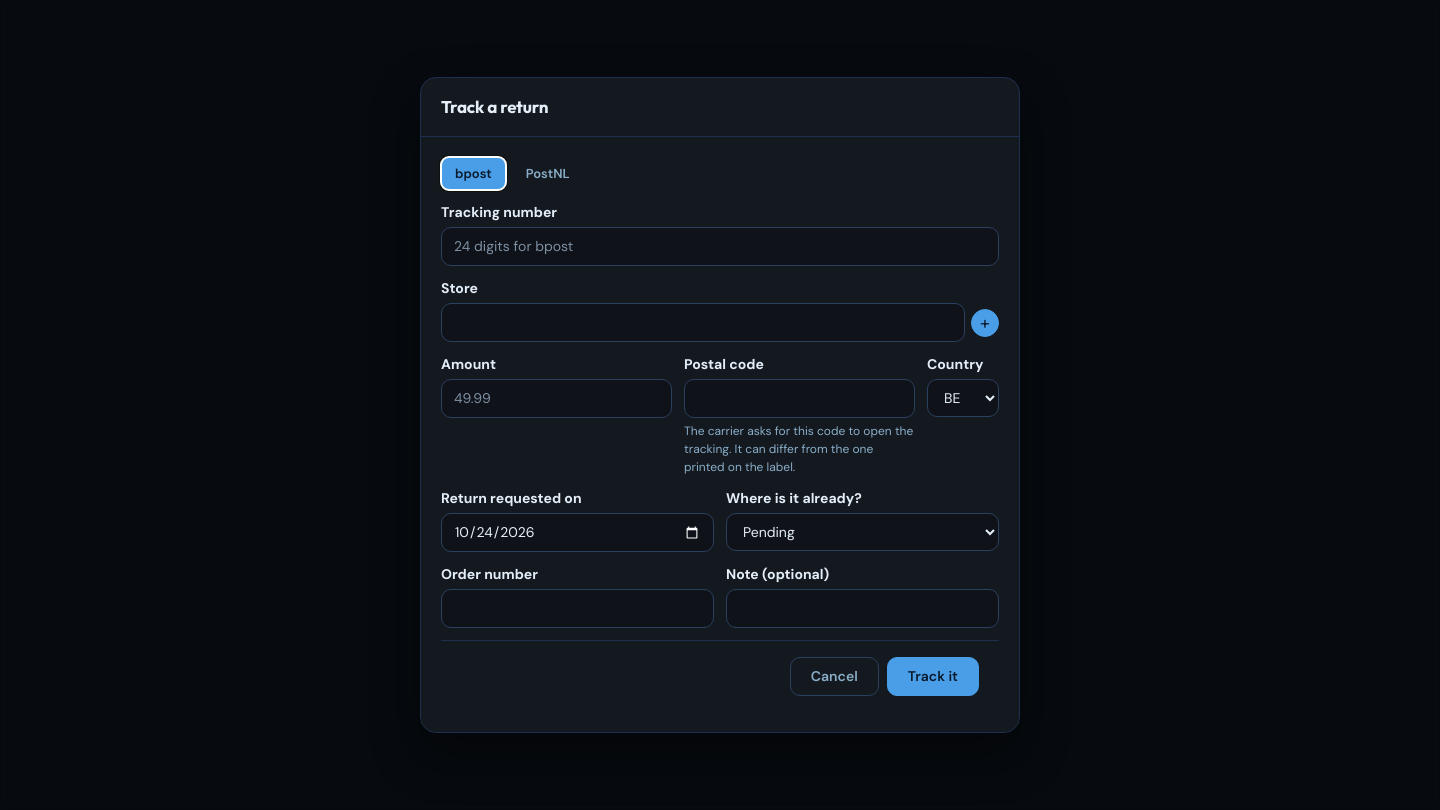
it: what it asks for › asks for the drop-off day only once the parcel has left
Select "Dropped off" in the dropdown labelled "Where is it already?" at [862, 532], box 726,513 -> 999,551
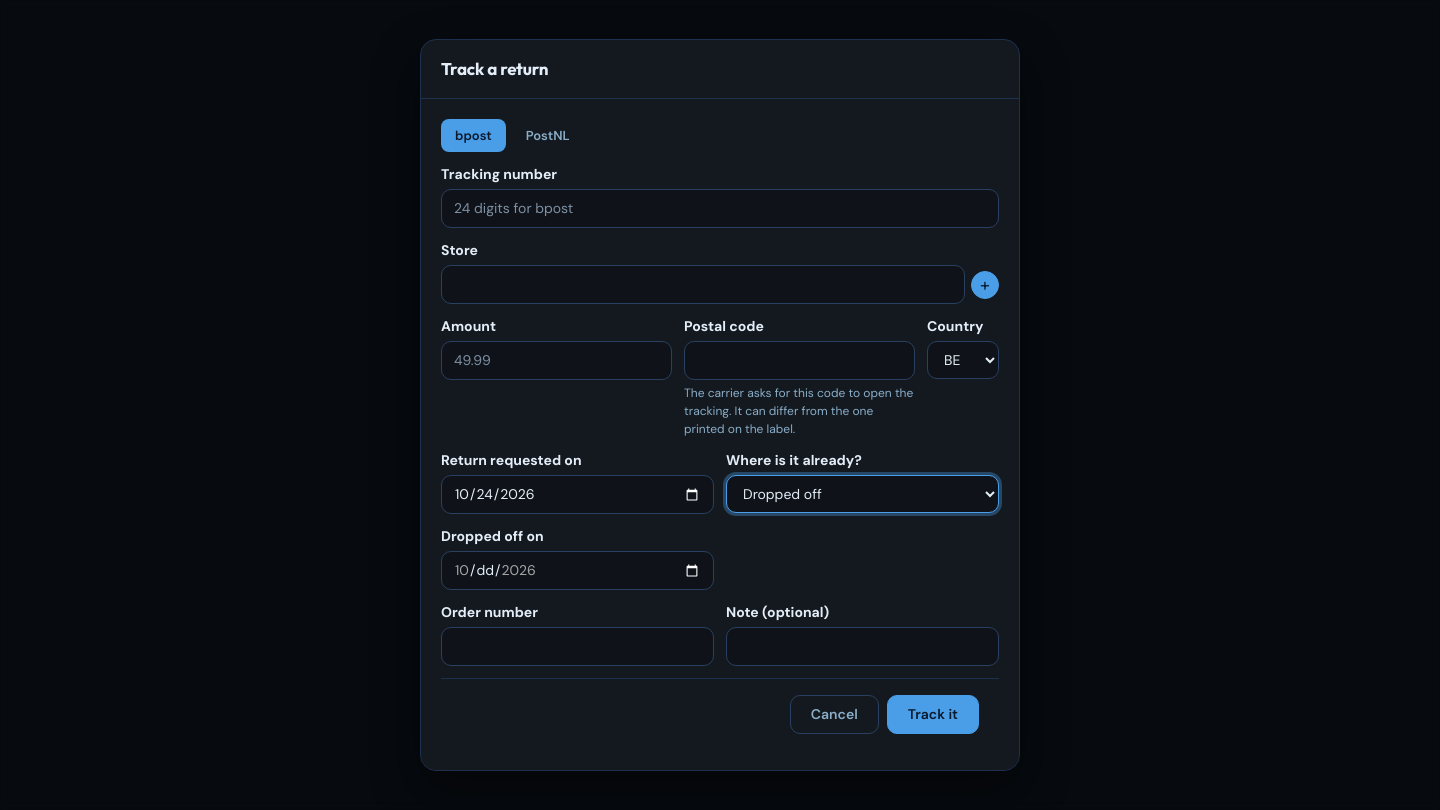
Check: the date field labelled "Dropped off on" is shown, box 441,551 -> 714,590
